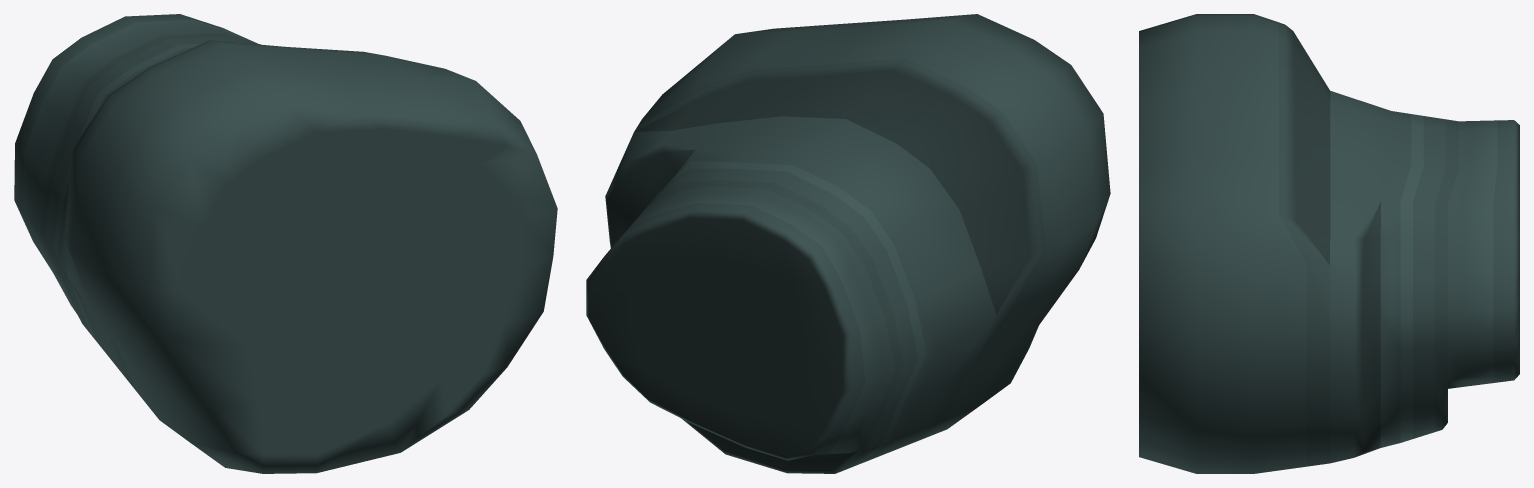
File: AlienPillar.005.glb
The picture shows the model from 3 angles, left to right: view 1: azimuth 30°, elevation 25°; view 2: azimuth 150°, elevation 25°; view 3: azimuth 270°, elevation 25°; orthographic projection. The views are drawn at different scales.
Visible parts, largest first — view 1: AlienPillar.005; view 2: AlienPillar.005; view 3: AlienPillar.005.
Part boxes in pixels (x1,y1,x2,y2): AlienPillar.005: [14, 14, 557, 473]; AlienPillar.005: [586, 14, 1110, 473]; AlienPillar.005: [1139, 14, 1519, 473].
Bounding box in the file's own units: 4425 × 3897 × 3538.
